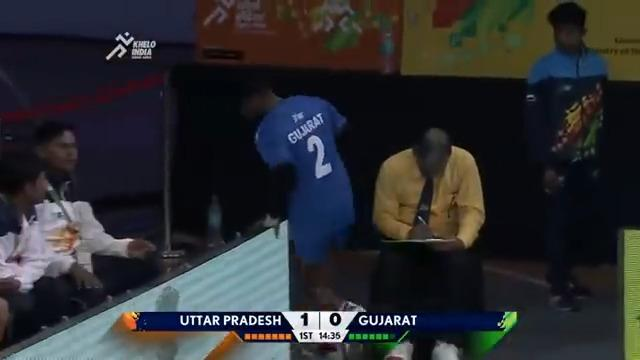Player: (241, 79, 362, 312)
referee: (371, 126, 486, 250)
